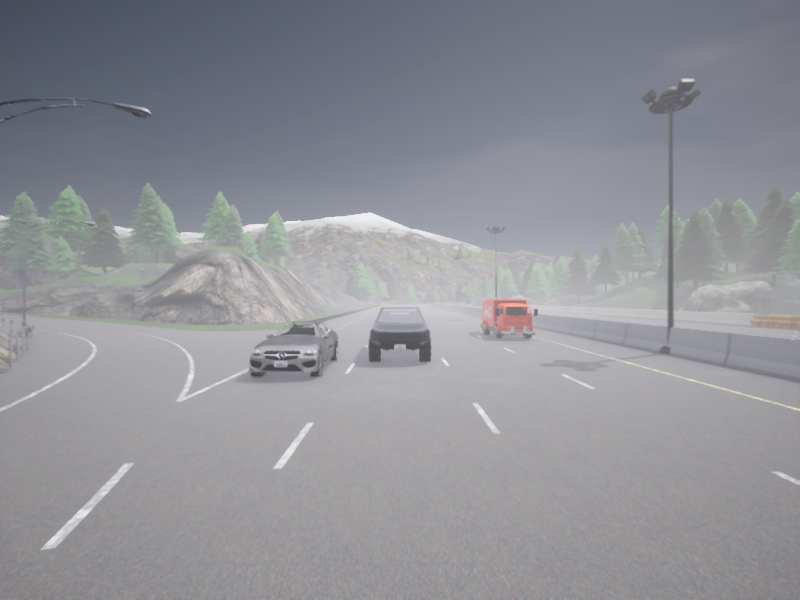vehicle: (249, 321, 338, 377), (368, 307, 431, 361), (480, 299, 537, 338), (466, 301, 472, 303)
